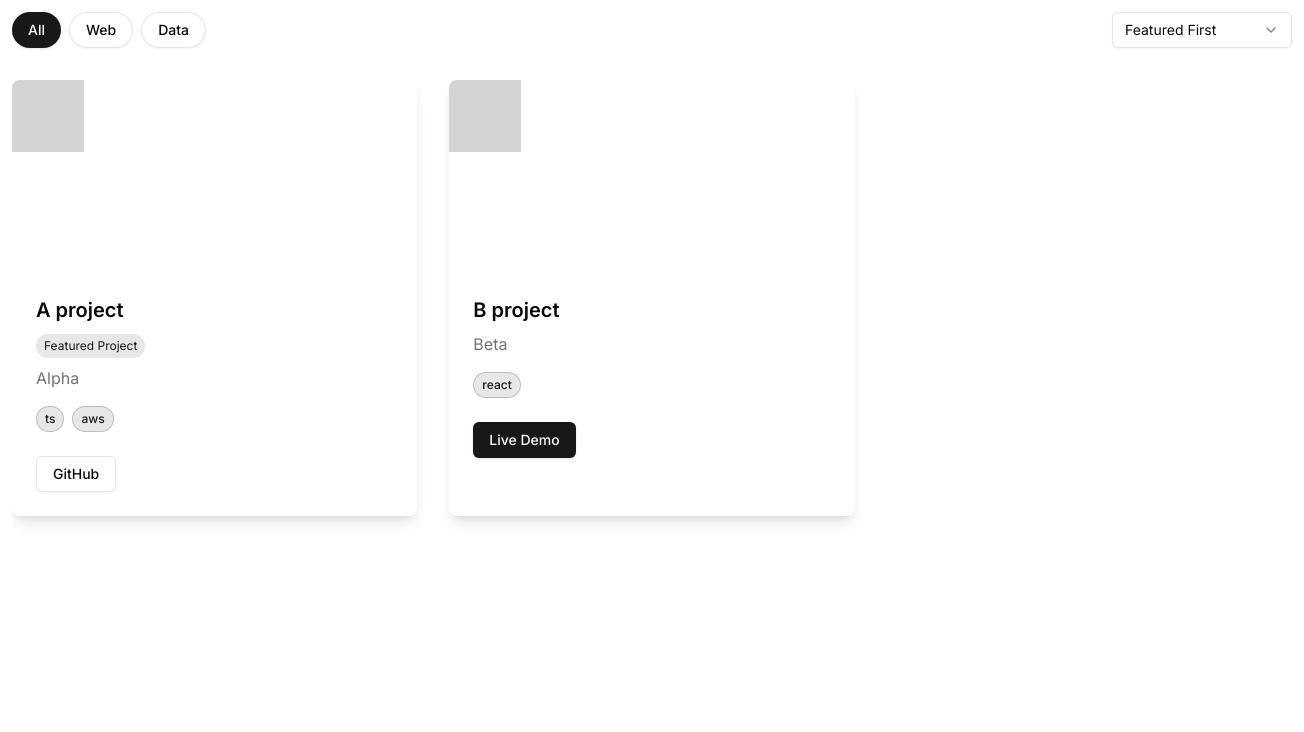
Project components › ProjectGrid filters by category and sorts by featured
Expected: the heading "A project" is shown, [36,298,124,322]
Click the button "Data" at [174, 30], box [141,12,206,48]
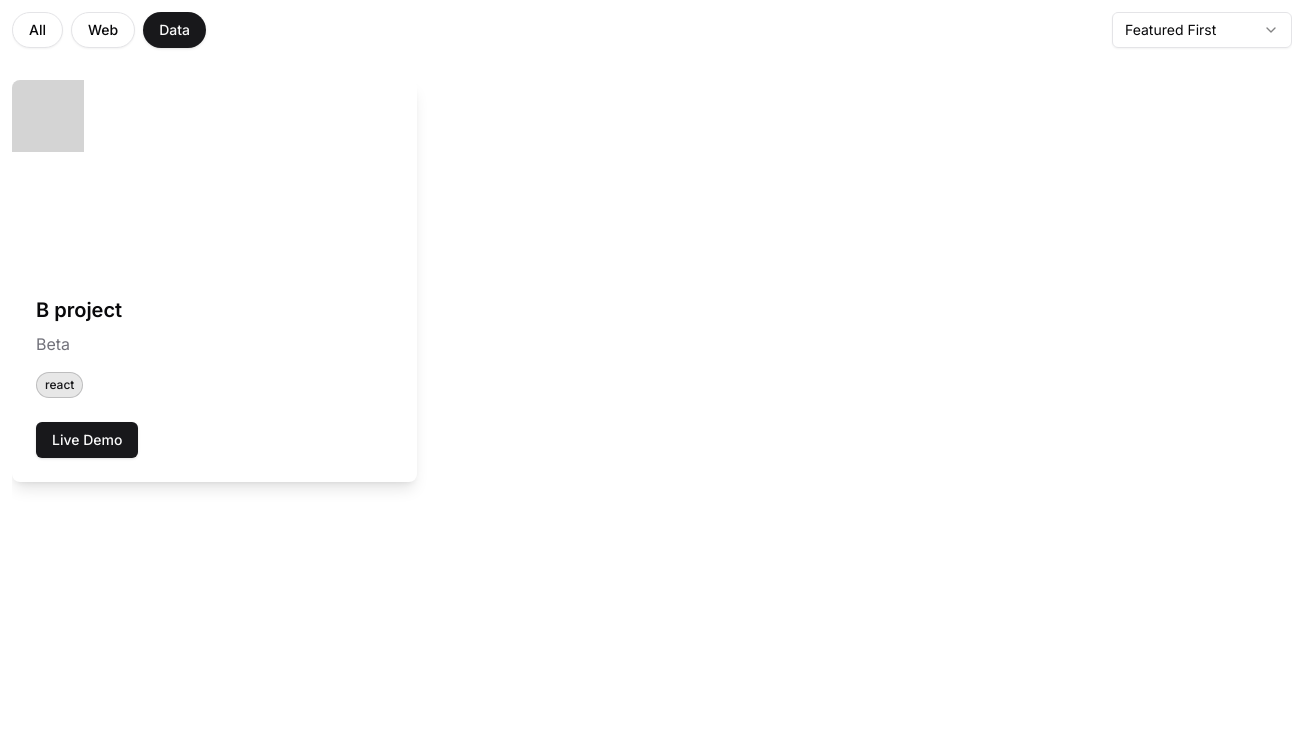
Expected: the heading "B project" is shown, [36,298,122,322]
Result: the heading "A project" is gone
# Reset to All and ensure both are visible again
Click the button "All" at [38, 30], box [12,12,63,48]
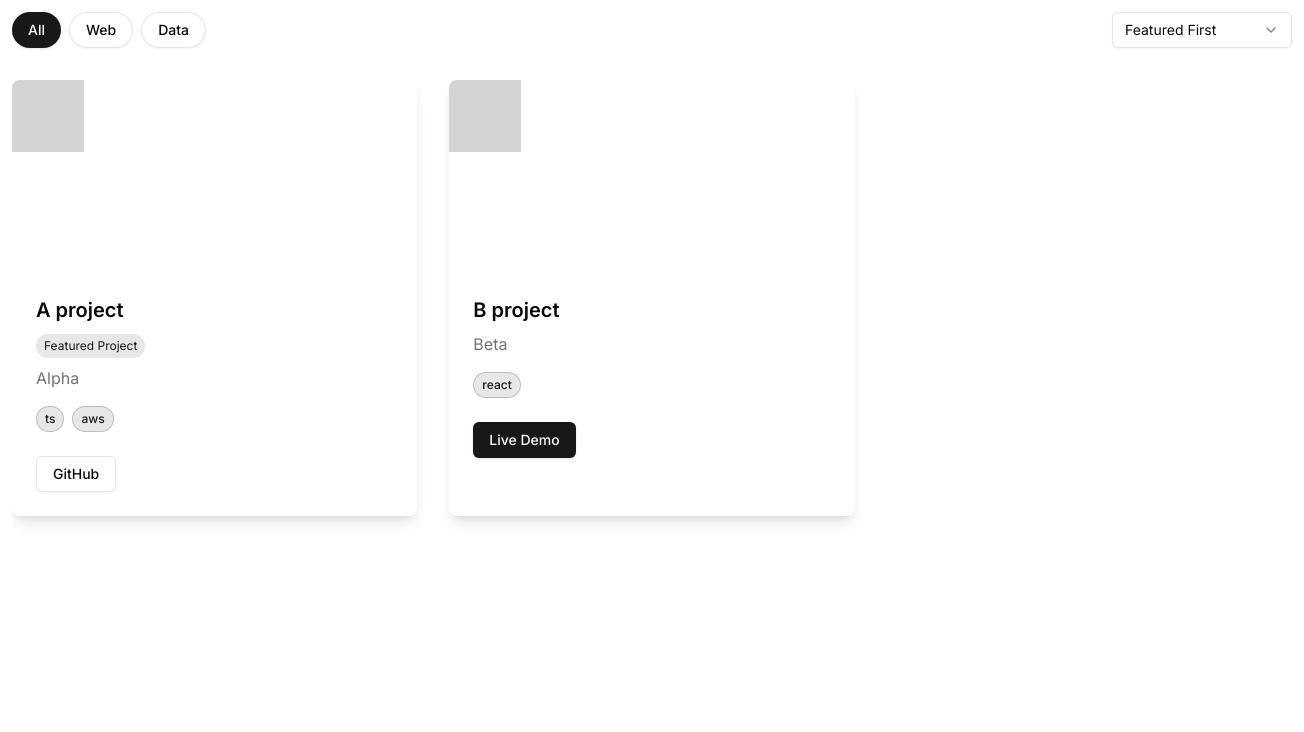
Expected: the heading "B project" is shown, [473,298,560,322]
Result: the heading "A project" is shown at [36,298,124,322]
